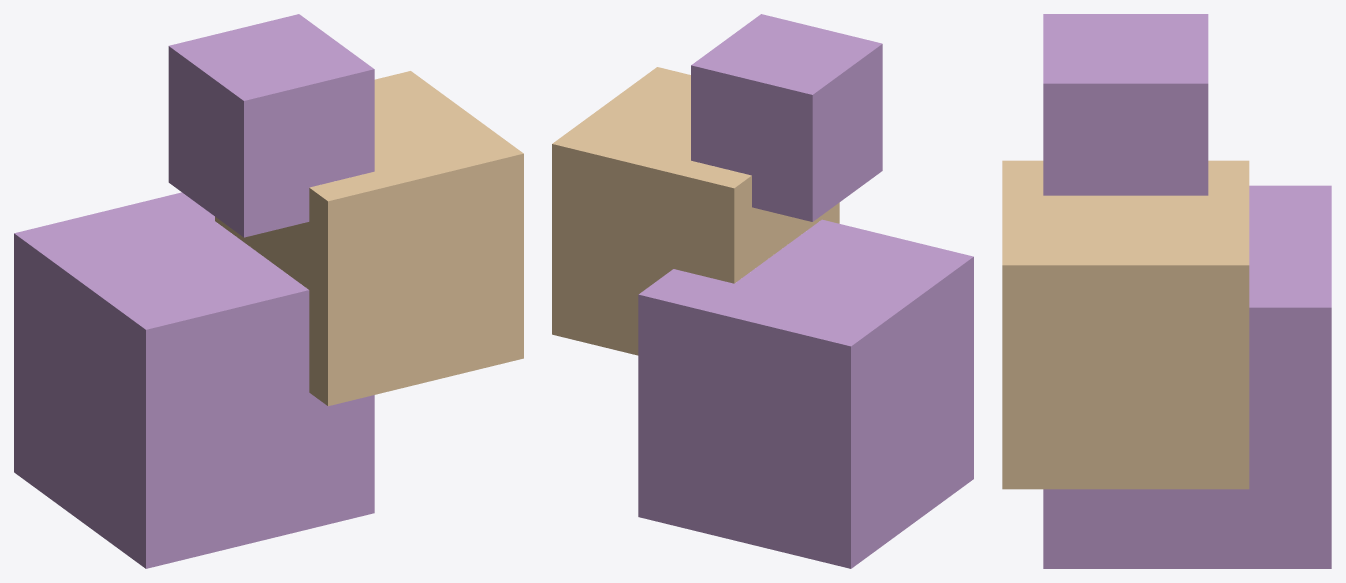
The model's file is alien-biosphere-stacked-cubes-5e46a795__22739.glb.
The picture shows the model from 3 angles, left to right: view 1: azimuth 30°, elevation 25°; view 2: azimuth 150°, elevation 25°; view 3: azimuth 270°, elevation 25°; orthographic projection. The views are drawn at different scales.
Parts seen in each view (by area): view 1: stacked-cubes; view 2: stacked-cubes; view 3: stacked-cubes.
Boxes of the visible parts, bbox=[...] form: stacked-cubes: bbox=[14, 14, 523, 568]; stacked-cubes: bbox=[552, 14, 973, 568]; stacked-cubes: bbox=[1002, 14, 1331, 568].
Bounding box in the file's own units: 2.2 × 2.6 × 1.6.
